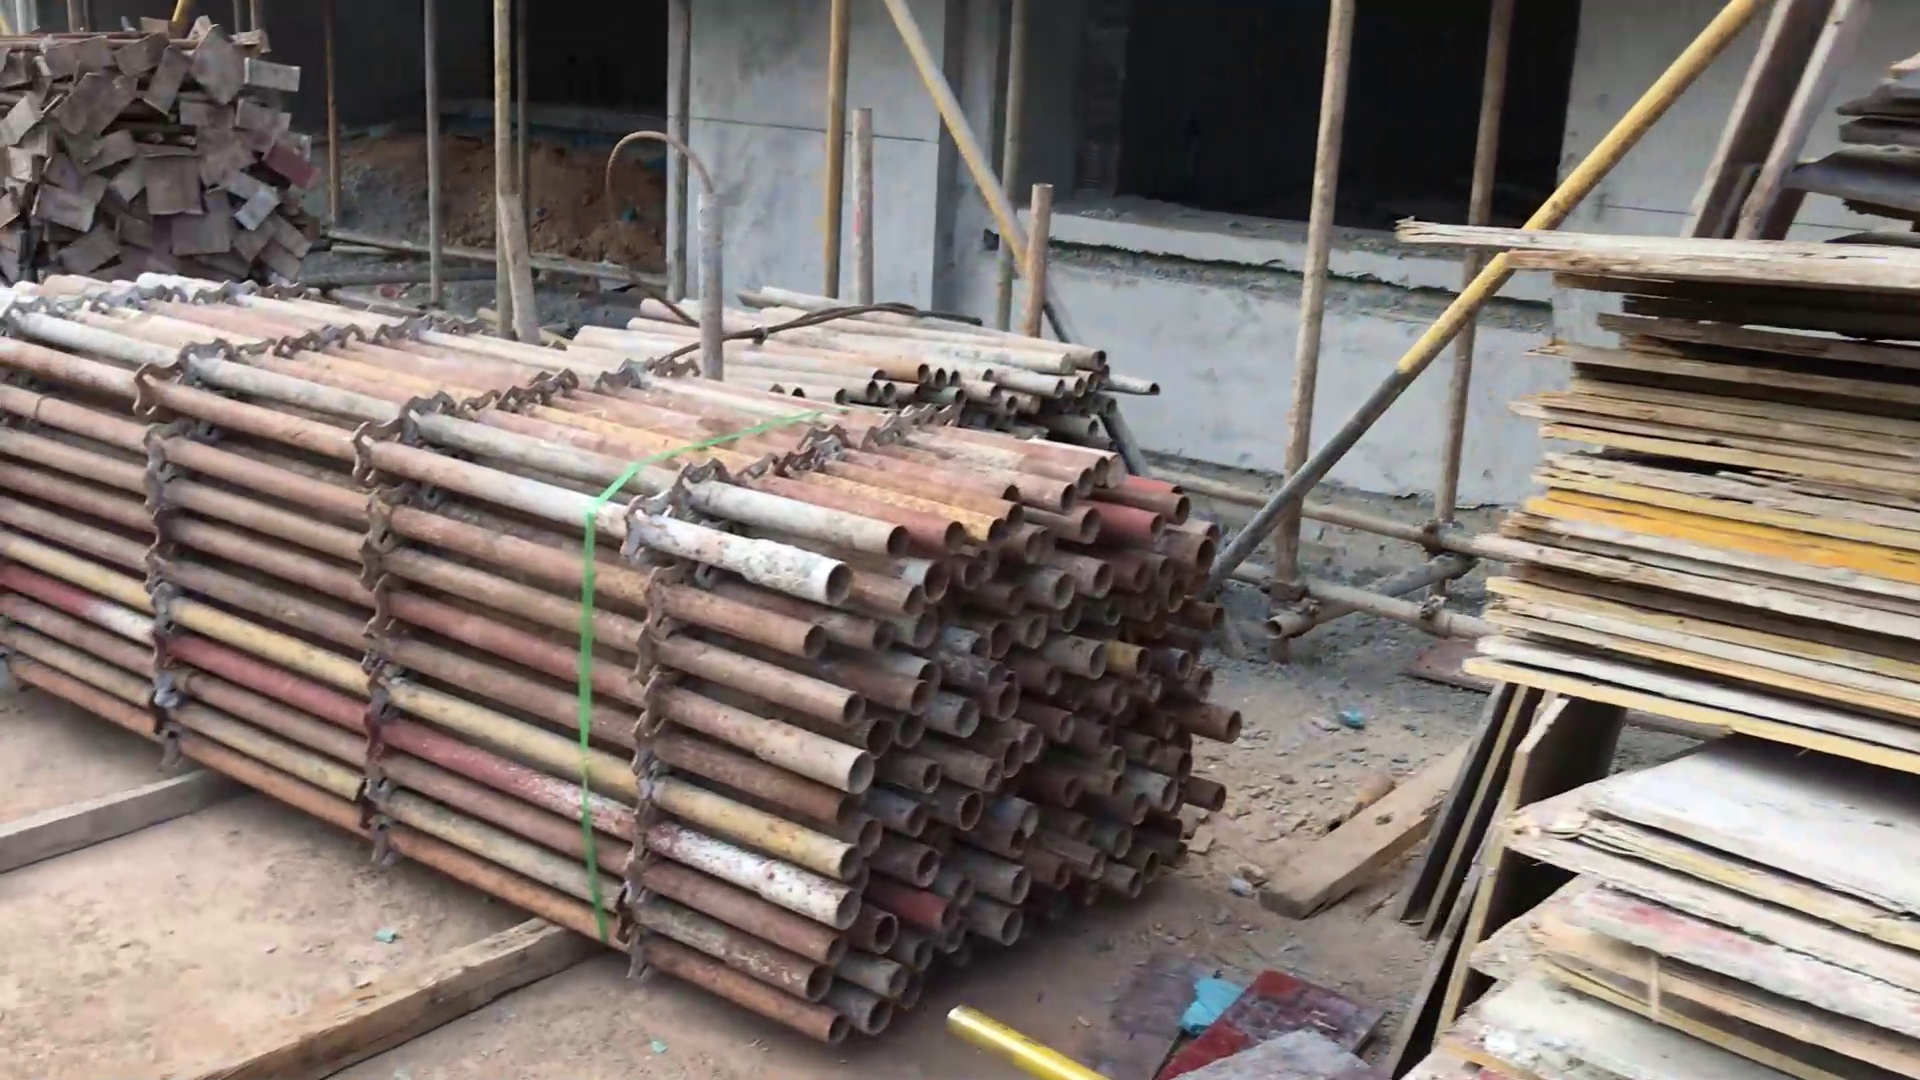board: (1391, 33, 1920, 1077)
scaffold: (1, 248, 1262, 1055), (560, 264, 1162, 443)
